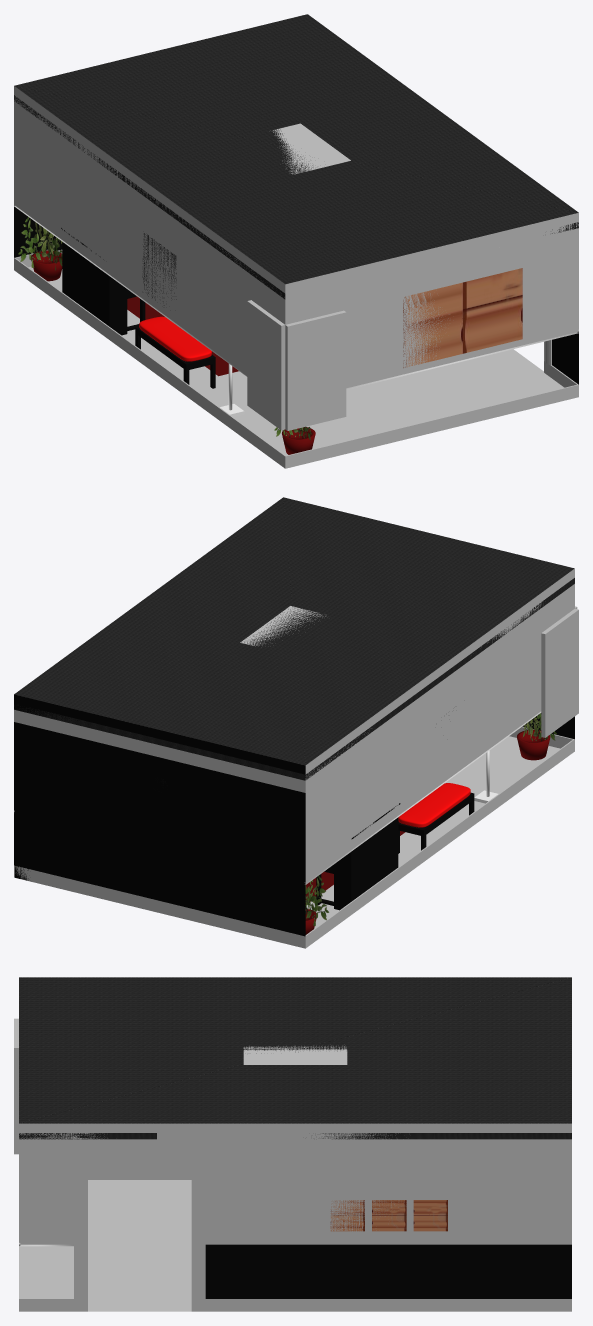
The model's file is comedor.gltf.
3 views of the same model, one above another, from view 1: azimuth 30°, elevation 25°; view 2: azimuth 150°, elevation 25°; view 3: azimuth 270°, elevation 25° (orthographic). The views are drawn at different scales.
Parts seen in each view (by area): view 1: Object_28, Object_35, Object_21, Object_29, Object_27, Object_25, Object_14, Object_33, Object_22, Object_36, Object_26, Object_13 (+1 smaller); view 2: Object_28, Object_13, Object_35, Object_21, Object_29, Object_26, Object_25, Object_6, Object_14, Object_33, Object_22; view 3: Object_28, Object_35, Object_21, Object_36, Object_29, Object_27.
Part boxes in pixels (box(x1,y1,x2,y2)): Object_28: box(14, 14, 578, 299); Object_35: box(14, 86, 578, 388); Object_21: box(14, 123, 578, 468); Object_29: box(14, 101, 578, 430); Object_27: box(403, 268, 522, 367); Object_25: box(61, 228, 176, 335); Object_14: box(139, 316, 211, 361); Object_33: box(18, 217, 311, 440); Object_22: box(31, 250, 315, 454); Object_36: box(552, 333, 578, 384); Object_26: box(53, 236, 215, 388); Object_13: box(14, 205, 51, 257); Object_28: box(14, 497, 574, 780); Object_13: box(14, 694, 305, 936); Object_35: box(305, 568, 574, 882); Object_21: box(14, 606, 574, 948); Object_29: box(14, 584, 578, 884); Object_26: box(52, 731, 474, 926); Object_25: box(153, 779, 400, 910); Object_6: box(87, 856, 220, 901); Object_14: box(398, 783, 470, 827); Object_33: box(305, 713, 556, 925); Object_22: box(305, 729, 550, 934); Object_28: box(19, 977, 571, 1139); Object_35: box(19, 1123, 571, 1244); Object_21: box(19, 1046, 571, 1311); Object_36: box(205, 1244, 571, 1298); Object_29: box(14, 1018, 571, 1298); Object_27: box(330, 1200, 447, 1231).
Size of the model in its own units: 5.19 by 3 by 8.17.
